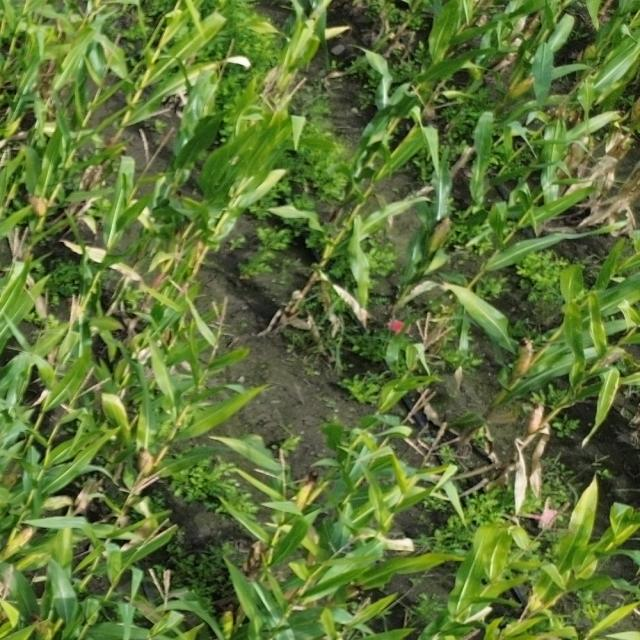gray-leaf-spot: (561, 310, 590, 380)
